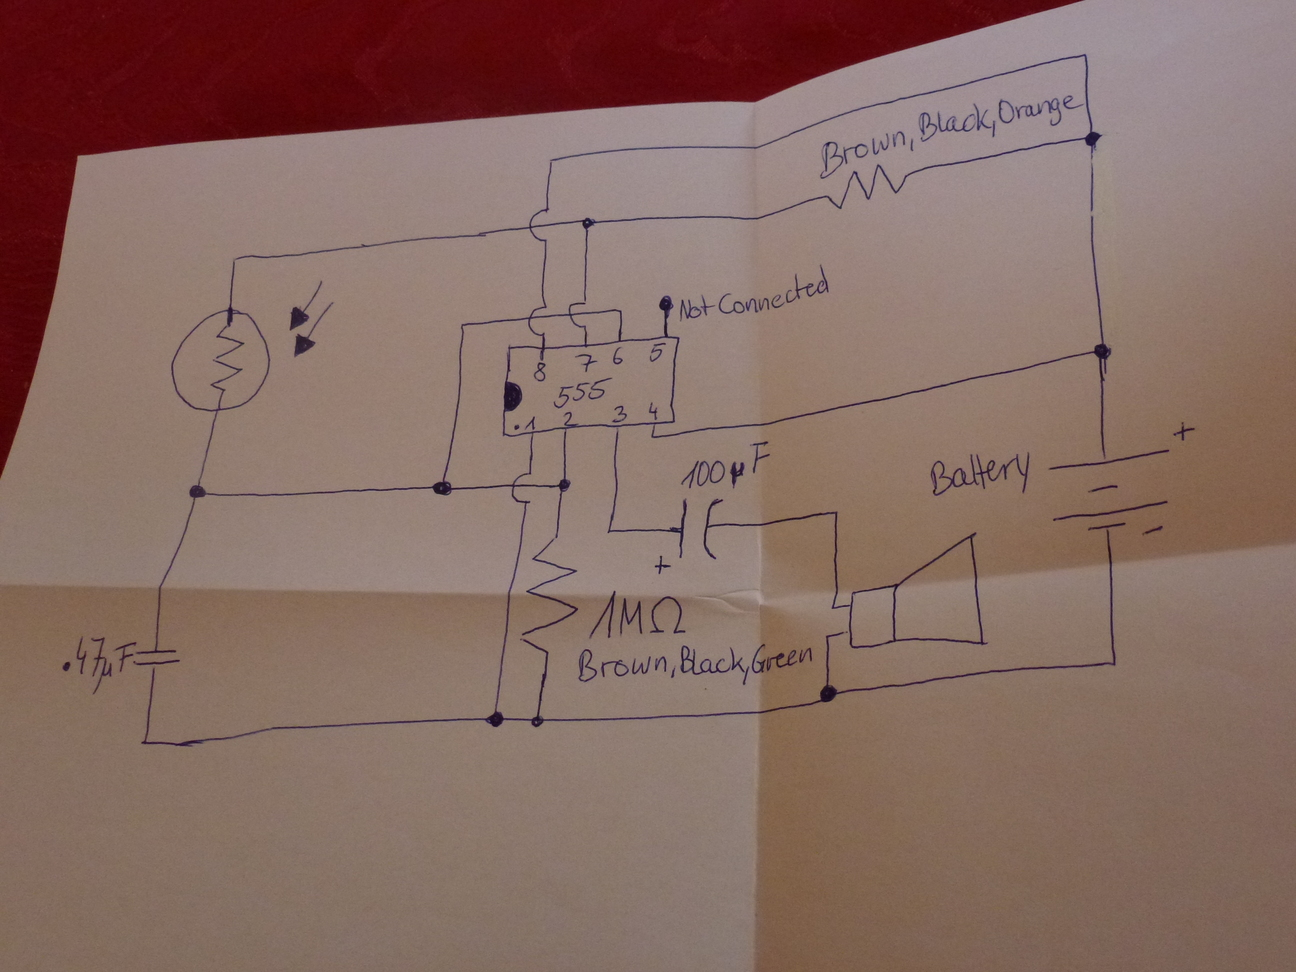capacitor.polarized: (652, 494, 726, 577)
capacitor.unpolarized: (128, 644, 182, 670)
crossover: (526, 205, 557, 244), (511, 468, 541, 505), (524, 302, 552, 339), (566, 297, 592, 331)
integrated_circuit: (498, 332, 682, 441)
junction: (182, 474, 213, 505), (479, 703, 511, 732), (1079, 123, 1106, 153), (1089, 338, 1116, 364), (524, 709, 551, 731), (816, 680, 839, 706), (430, 476, 453, 498), (135, 731, 157, 751), (578, 212, 597, 233), (555, 474, 574, 494), (227, 250, 244, 268), (1105, 653, 1121, 671), (544, 152, 559, 168), (827, 505, 843, 519), (1078, 48, 1092, 62), (604, 525, 617, 538), (648, 431, 660, 443), (457, 320, 469, 331), (613, 304, 625, 315), (821, 631, 833, 641), (828, 601, 838, 612)
resistor: (521, 528, 577, 666), (818, 162, 920, 212)
resistor.photo: (168, 278, 338, 414)
speaker: (842, 529, 991, 653)
terminal: (656, 295, 675, 318)
text: (816, 87, 1084, 181), (574, 632, 810, 684), (678, 261, 830, 325), (590, 592, 699, 649), (925, 451, 1032, 498), (679, 438, 772, 491), (65, 637, 128, 696), (556, 377, 611, 407), (576, 347, 598, 372), (516, 415, 537, 433), (611, 402, 628, 423), (532, 360, 548, 381), (648, 343, 664, 361), (646, 401, 660, 419), (559, 411, 575, 427), (611, 345, 624, 363)
voltage.dc: (1041, 417, 1197, 539)
